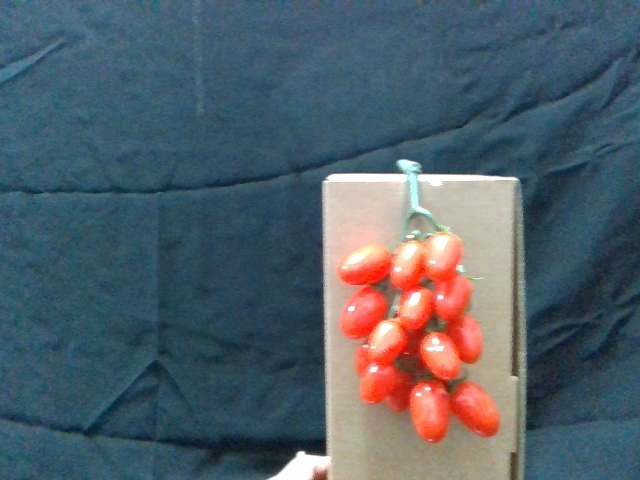tomato: (451, 380, 502, 439), (410, 378, 451, 445), (418, 331, 464, 383), (339, 288, 387, 337), (367, 318, 410, 367), (341, 246, 390, 288), (397, 284, 437, 334), (448, 311, 485, 365), (433, 275, 472, 325), (393, 239, 427, 292), (427, 232, 463, 281), (360, 361, 398, 405)
